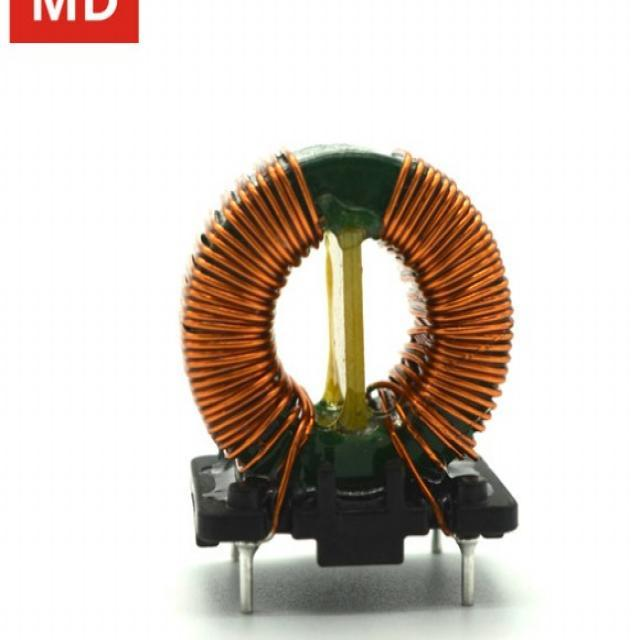Inductor: (184, 146, 512, 539)
